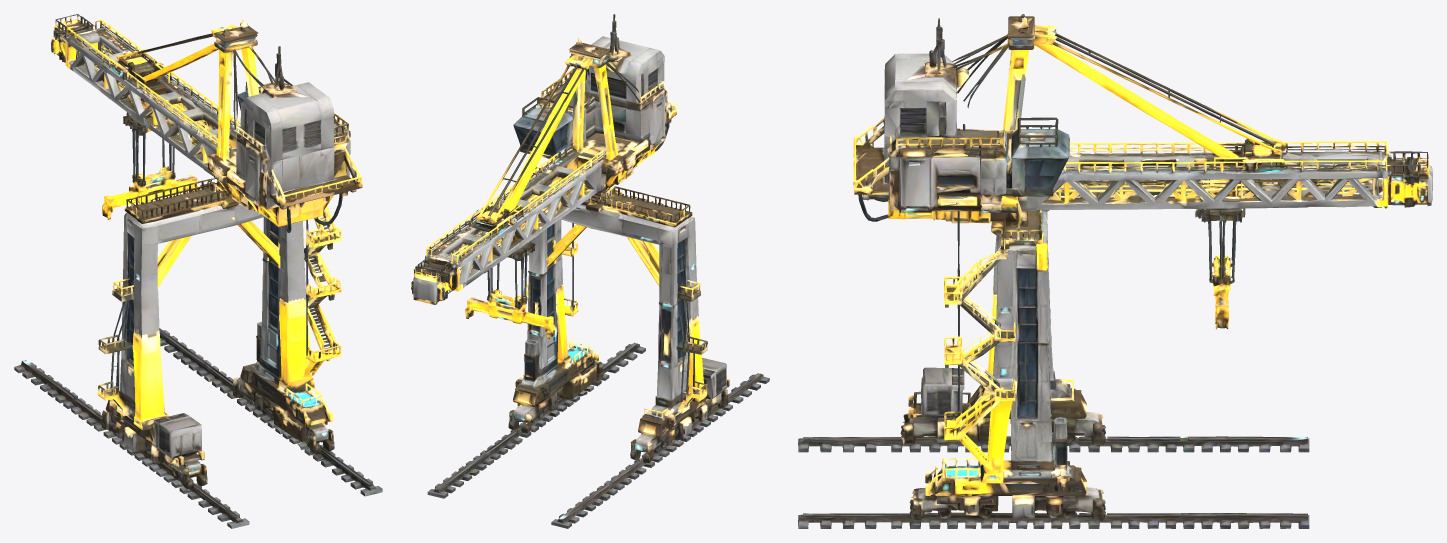
Rendered from crane.glb.
The picture shows the model from 3 angles, left to right: view 1: azimuth 30°, elevation 25°; view 2: azimuth 150°, elevation 25°; view 3: azimuth 270°, elevation 25°; orthographic projection. The views are drawn at different scales.
Visible parts, largest first — view 1: crane; view 2: crane; view 3: crane.
Boxes of the visible parts, left/top/right/bottom form: crane: left=14, top=14, right=382, bottom=528; crane: left=411, top=14, right=769, bottom=528; crane: left=798, top=14, right=1432, bottom=528.
Size of the model in its own units: 25.96 by 50.68 by 59.97.
Materials: 1 (1 with a texture image).
